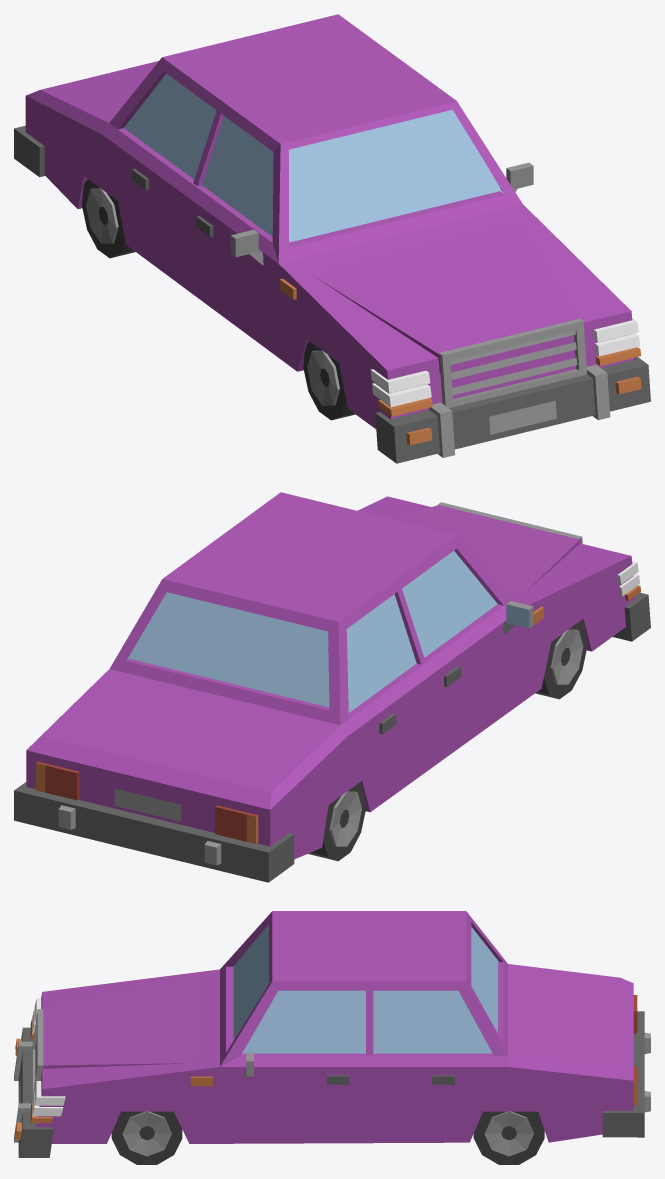
File: transport_cool_004.fbx
The picture shows the model from 3 angles, top to bottom: view 1: azimuth 30°, elevation 25°; view 2: azimuth 150°, elevation 25°; view 3: azimuth 270°, elevation 25°; orthographic projection. The views are drawn at different scales.
Parts seen in each view (by area): view 1: transport_cool_004; view 2: transport_cool_004; view 3: transport_cool_004.
Part boxes in pixels (bbox=[...]): transport_cool_004: bbox=[14, 14, 650, 463]; transport_cool_004: bbox=[14, 492, 650, 882]; transport_cool_004: bbox=[14, 911, 650, 1164].
Bounding box in the file's own units: 148 × 98.74 × 334.
